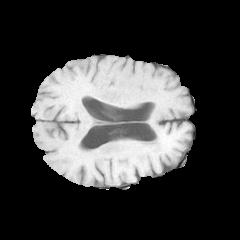glioma: (79, 135, 165, 170)
